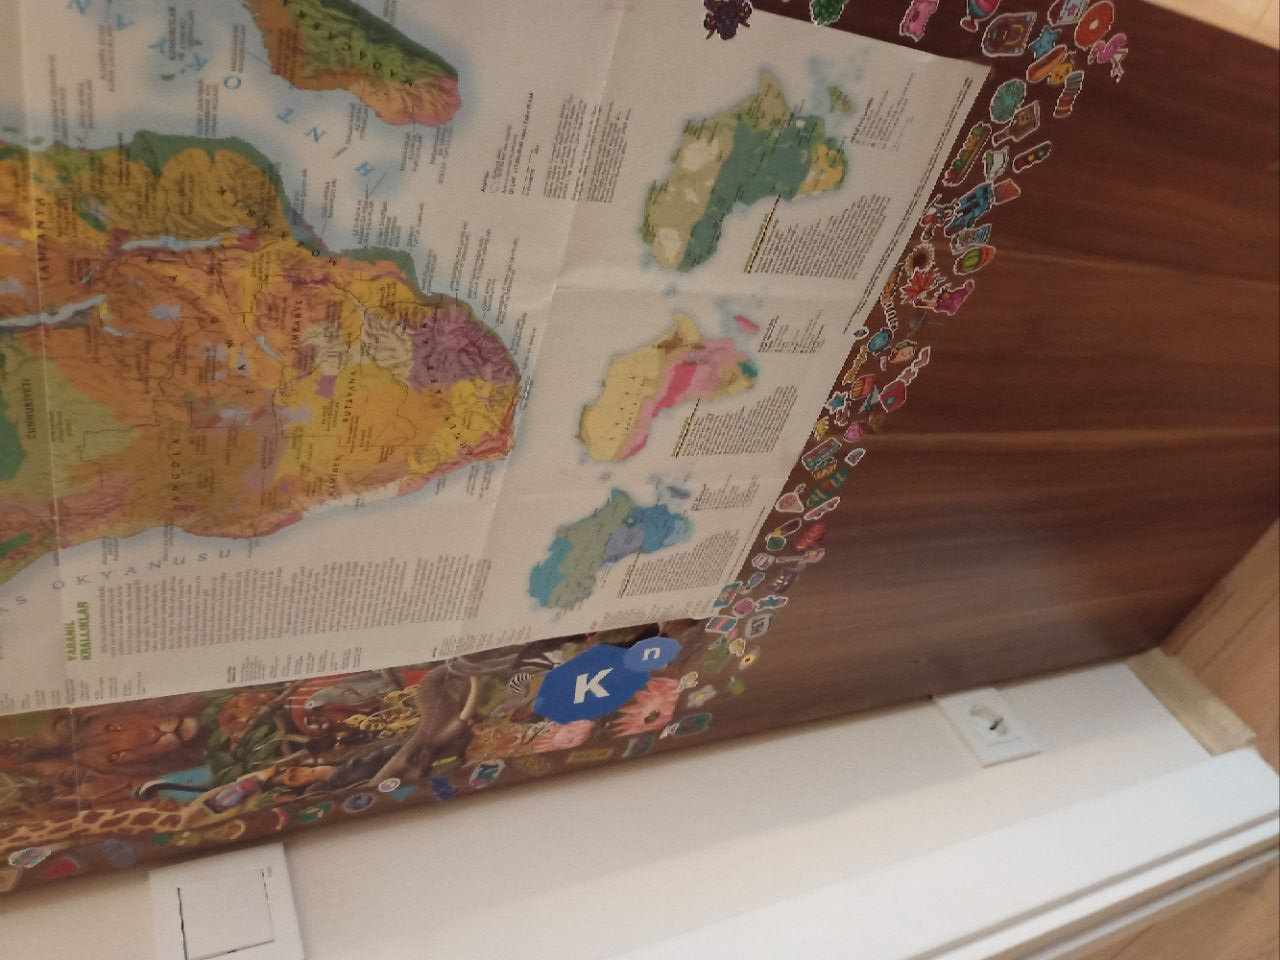knative: (537, 634, 681, 721)
